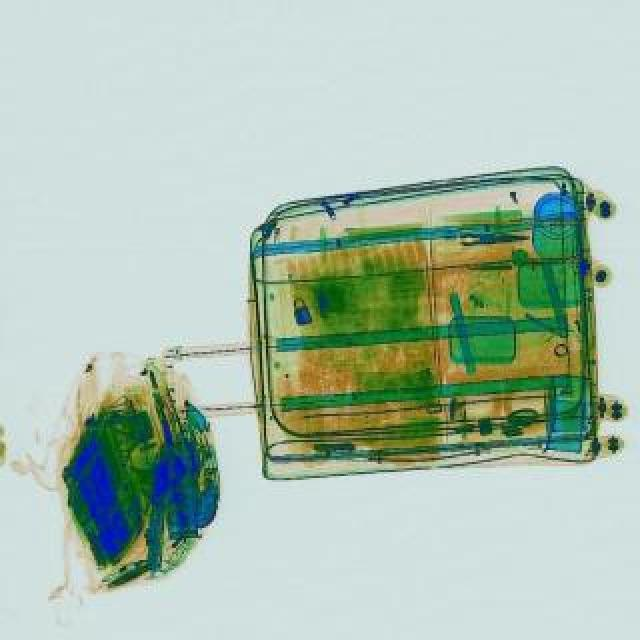knife: (460, 230, 530, 246)
